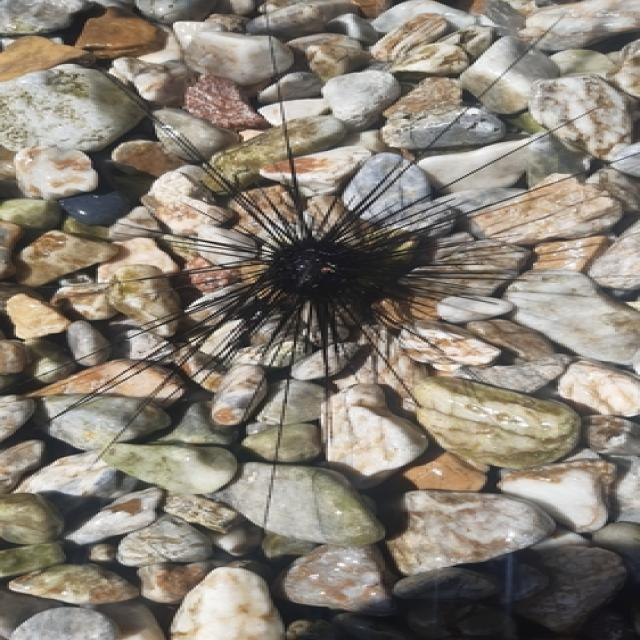Urchin: (11, 4, 640, 517)
